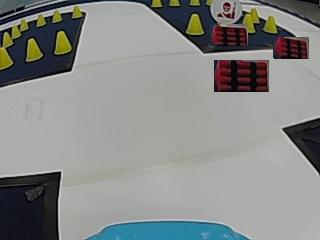evil: (211, 0, 241, 24)
